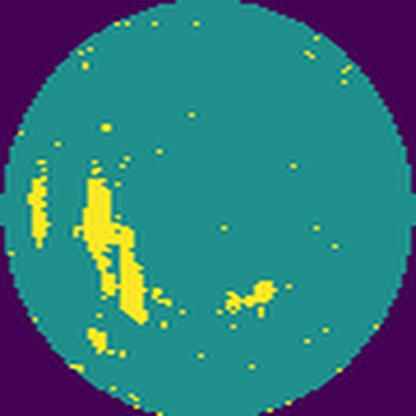Loc: (79, 174, 148, 325), (222, 278, 281, 312)
